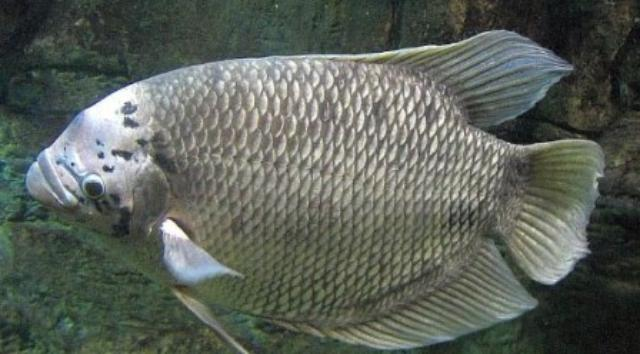Mulut: (6, 132, 90, 240)
Sirip Anal: (258, 232, 542, 354)
Sirip Dada: (148, 208, 260, 298)
Sirip Ekor: (488, 106, 624, 298)
Sirip Perut: (157, 280, 265, 354)
Sirip Punggung: (254, 20, 586, 138)
